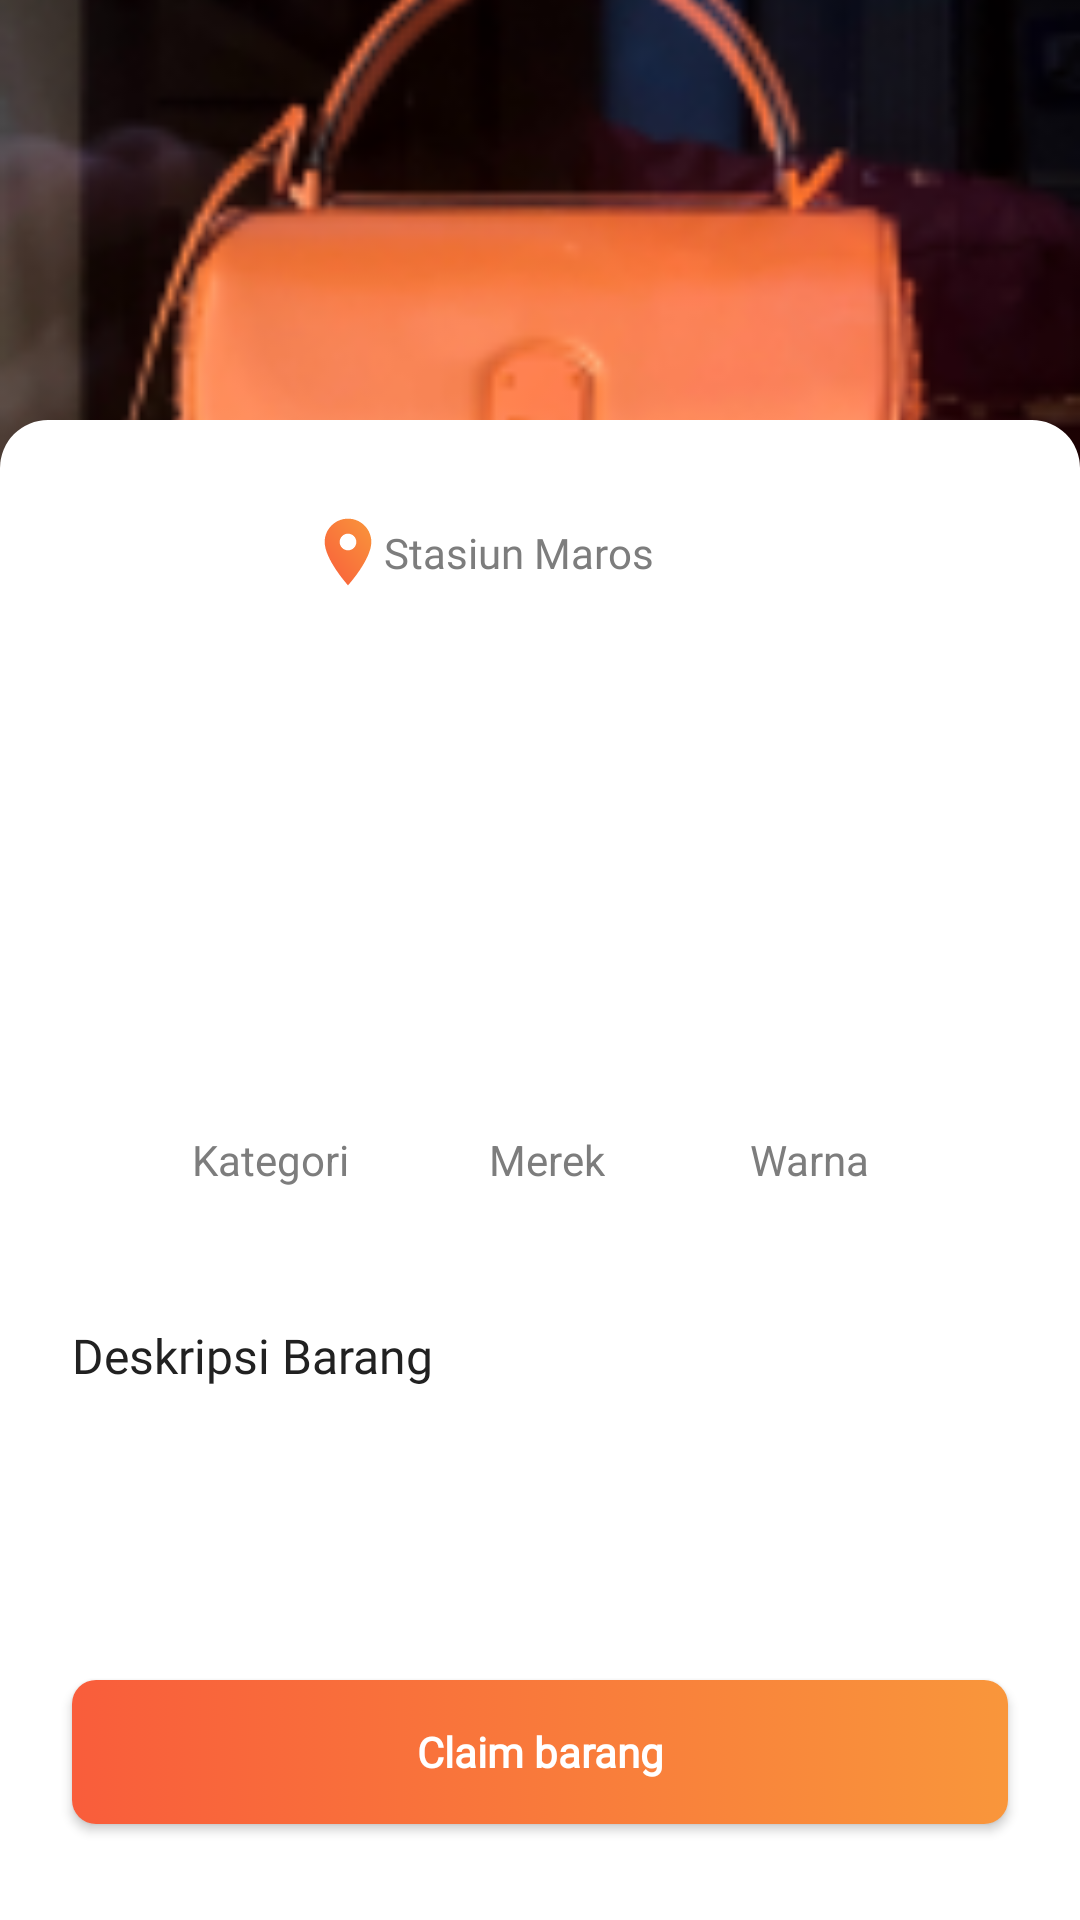

Icons on this 1080px×1920px Android screen, each with its box as box=[x1, y1, x2, y2]:
location: box=[324, 518, 372, 585]
